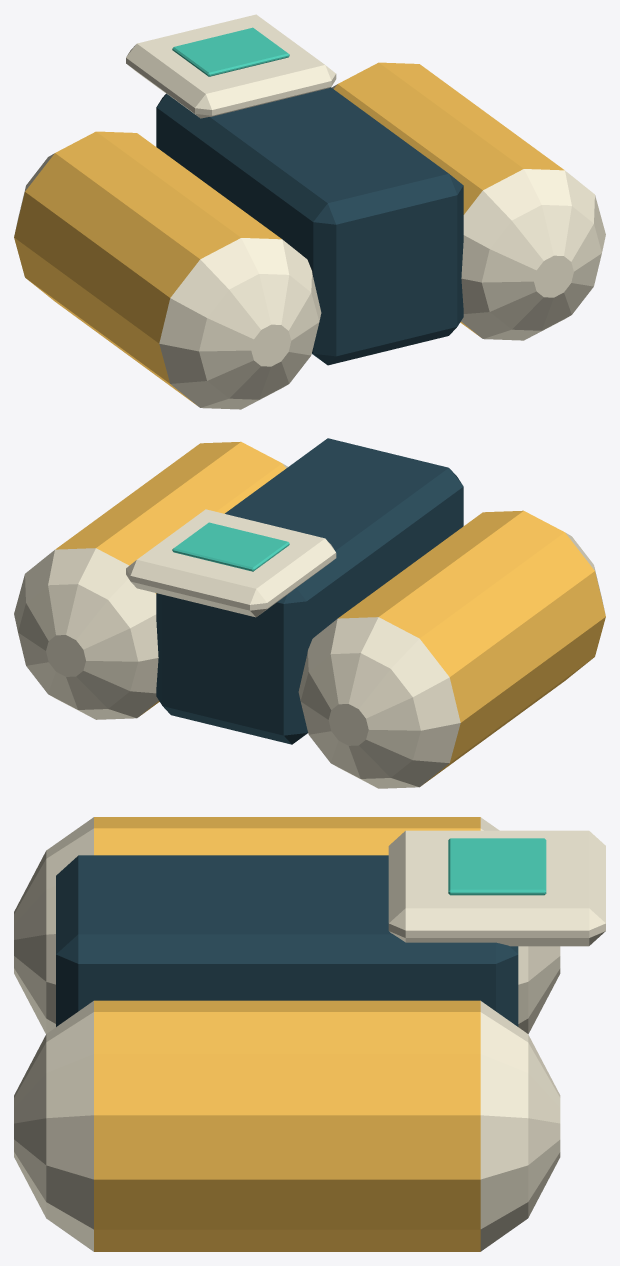
File: refinery.glb
3 renders of one model, top to bottom at view 1: azimuth 30°, elevation 25°; view 2: azimuth 150°, elevation 25°; view 3: azimuth 270°, elevation 25°, orthographic. The views are drawn at different scales.
Parts seen in each view (by area): view 1: StaticHull, AnimatedHardware; view 2: StaticHull, AnimatedHardware; view 3: StaticHull, AnimatedHardware.
Boxes of the visible parts, x1,y1,x2,y2 form: StaticHull: [14, 62, 605, 409]; AnimatedHardware: [126, 14, 336, 118]; StaticHull: [14, 438, 605, 788]; AnimatedHardware: [126, 509, 336, 617]; StaticHull: [14, 817, 560, 1251]; AnimatedHardware: [388, 830, 605, 946].
Size of the model in its own units: 4.9 by 2.24 by 4.23.
